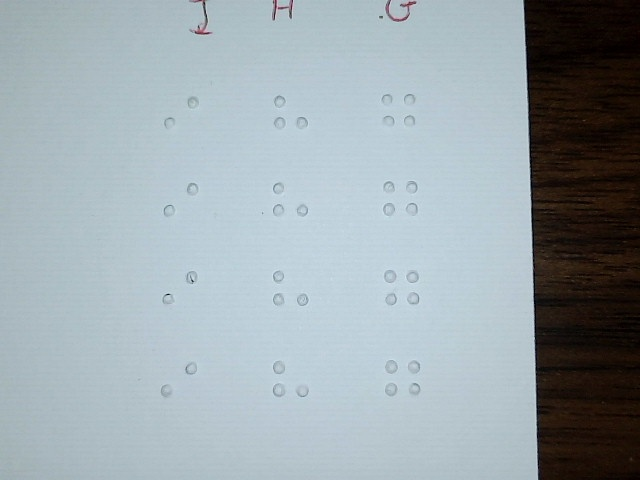G: (379, 81, 419, 150), (380, 170, 420, 239), (381, 259, 421, 328), (383, 351, 423, 420)
H: (270, 83, 310, 152), (270, 170, 310, 239), (271, 260, 311, 329), (271, 350, 311, 419)
I: (162, 83, 202, 152), (161, 169, 201, 238), (159, 348, 199, 417)
